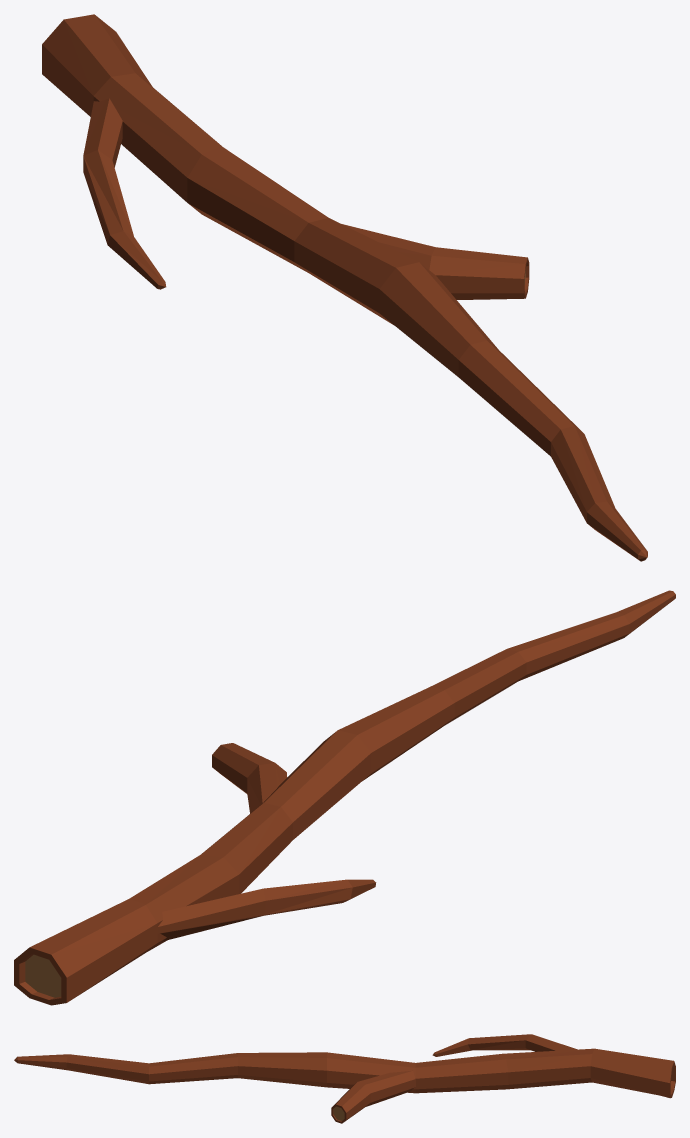
File: Log_3.gltf
3 renders of one model, top to bottom at view 1: azimuth 30°, elevation 25°; view 2: azimuth 150°, elevation 25°; view 3: azimuth 270°, elevation 25°, orthographic. The views are drawn at different scales.
Parts seen in each view (by area): view 1: Log_3; view 2: Log_3; view 3: Log_3.
Boxes of the visible parts, x1,y1,x2,y2 form: Log_3: [42, 14, 647, 561]; Log_3: [14, 590, 675, 1005]; Log_3: [14, 1034, 675, 1123].
Bounding box in the file's own units: 0.7627 × 0.1779 × 2.98.
